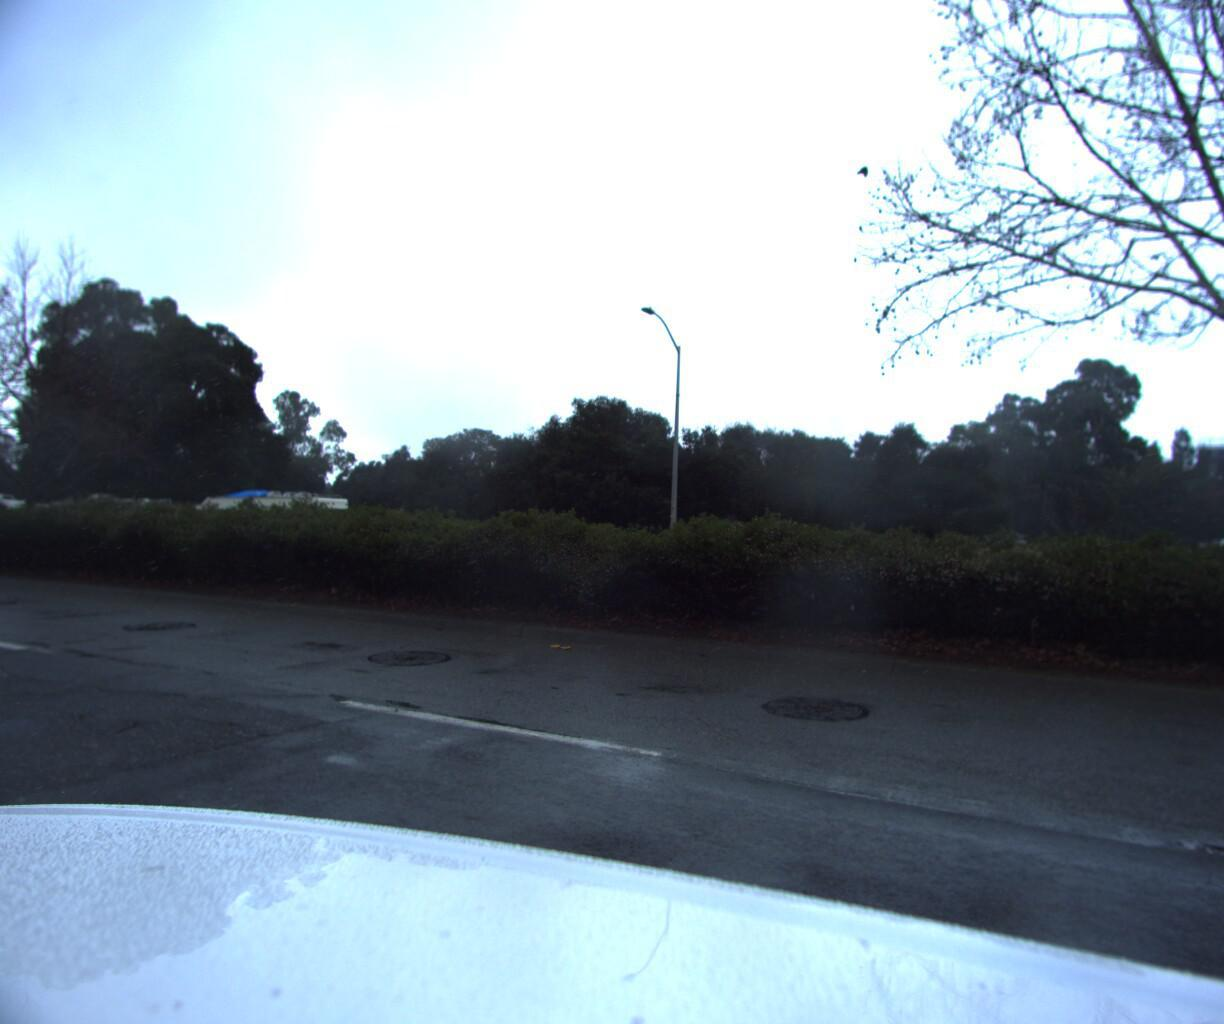other_vehicle: (162, 488, 354, 576), (0, 495, 47, 554)
